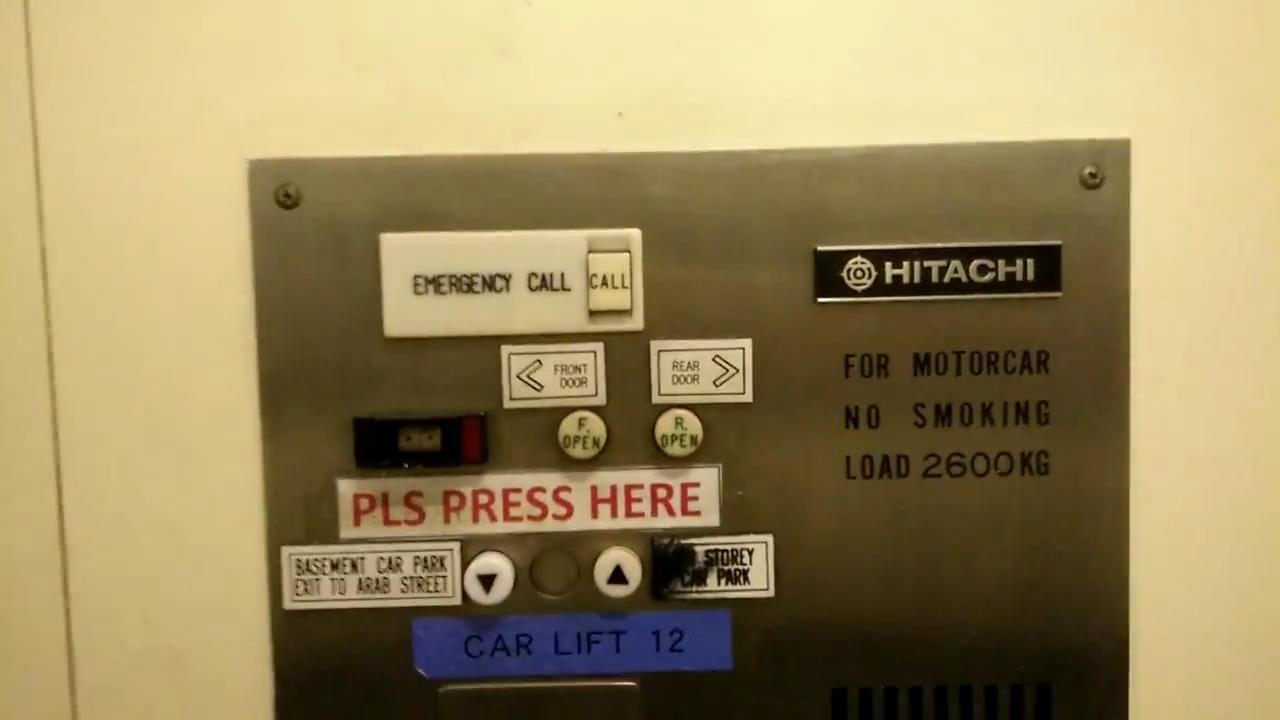down: (591, 543, 643, 599)
text_CALL: (583, 247, 635, 318)
text_open: (554, 408, 609, 463), (651, 405, 705, 459)
up: (462, 548, 518, 606)
